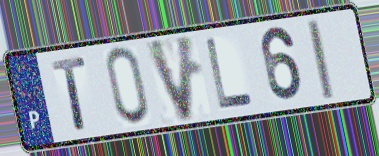0: (103, 44, 152, 130)
6: (259, 24, 305, 106)
I: (303, 17, 337, 103)
L: (203, 36, 257, 112)
T: (49, 54, 89, 132)
V: (142, 32, 198, 126)
